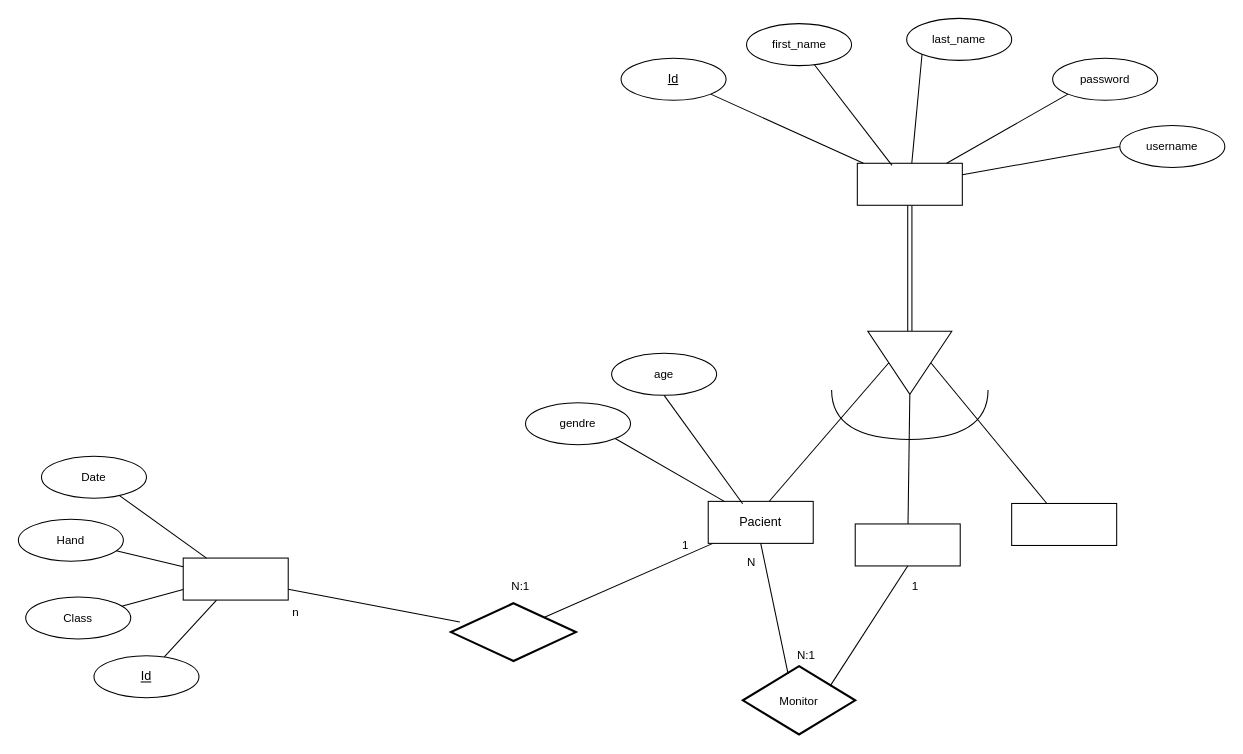
Some shapes in this 1243 by 754 pixel diagram are drawn without their labels. The centre of each missing label's shape, as x and y in pixels:
Admin: point (1064, 523)
Doctor: point (907, 544)
Has: point (512, 632)
User: point (909, 183)
Video: point (235, 578)
